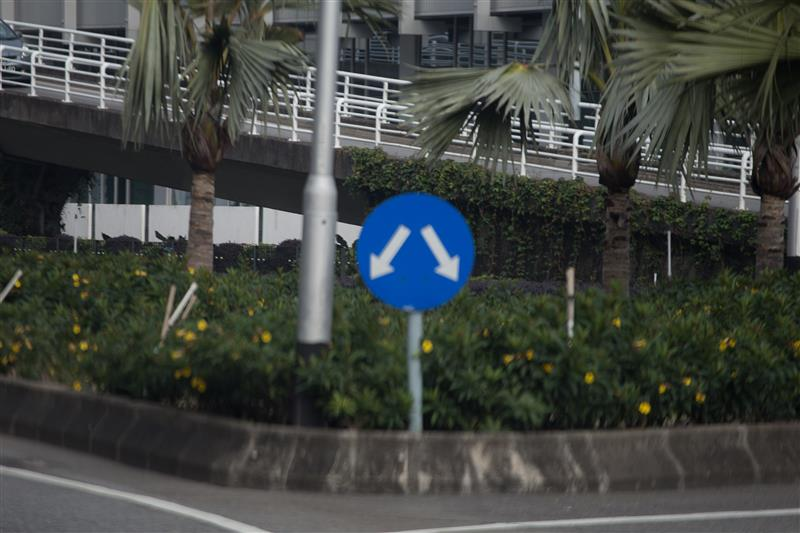keepLeftRight: (354, 191, 480, 313)
